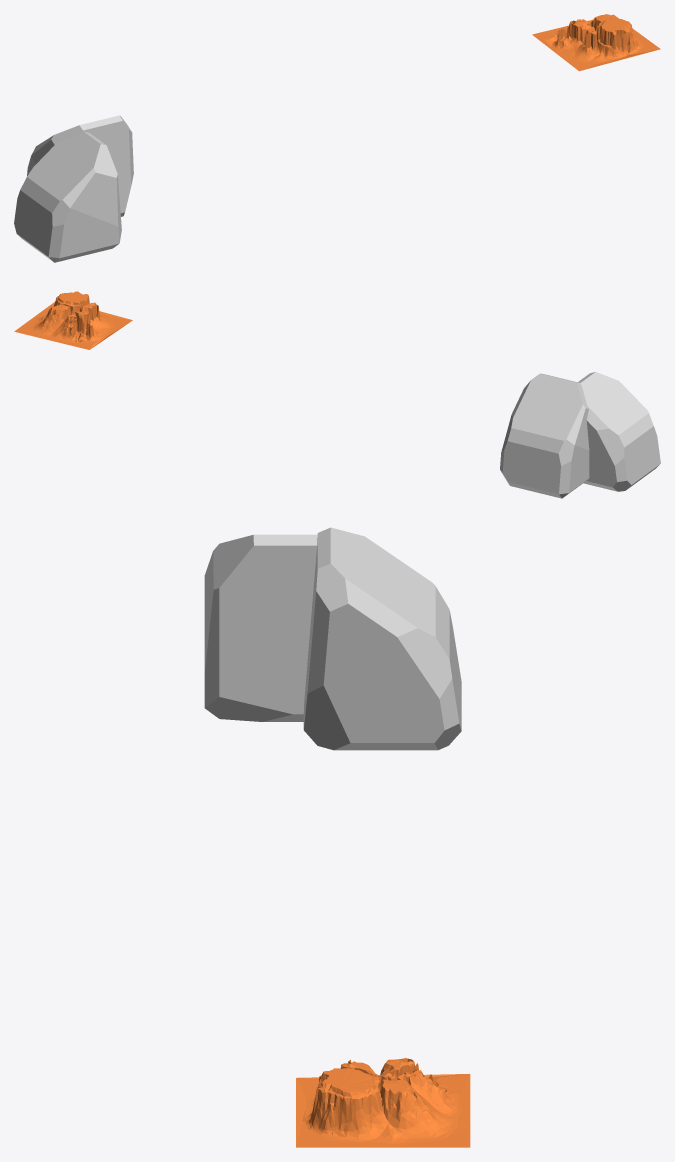
File: pedra paia.fbx
The picture shows the model from 3 angles, top to bottom: view 1: azimuth 30°, elevation 25°; view 2: azimuth 150°, elevation 25°; view 3: azimuth 270°, elevation 25°; orthographic projection. The views are drawn at different scales.
Parts seen in each view (by area): view 1: Cube.001, Landscape.003, Cube; view 2: Cube, Cube.001, Landscape.003; view 3: Cube, Cube.001, Landscape.003.
Boxes of the visible parts, bbox=[...] form: Cube.001: bbox=[14, 131, 121, 262]; Landscape.003: bbox=[532, 14, 660, 71]; Cube: bbox=[27, 115, 133, 216]; Cube: bbox=[500, 373, 589, 498]; Cube.001: bbox=[578, 372, 660, 491]; Landscape.003: bbox=[14, 291, 132, 349]; Cube: bbox=[303, 527, 461, 750]; Cube.001: bbox=[204, 534, 317, 721]; Landscape.003: bbox=[296, 1057, 470, 1147].
Size of the model in its own units: 1547 by 239 by 305.
